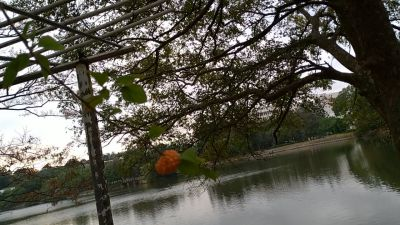eggs: (155, 149, 182, 176)
